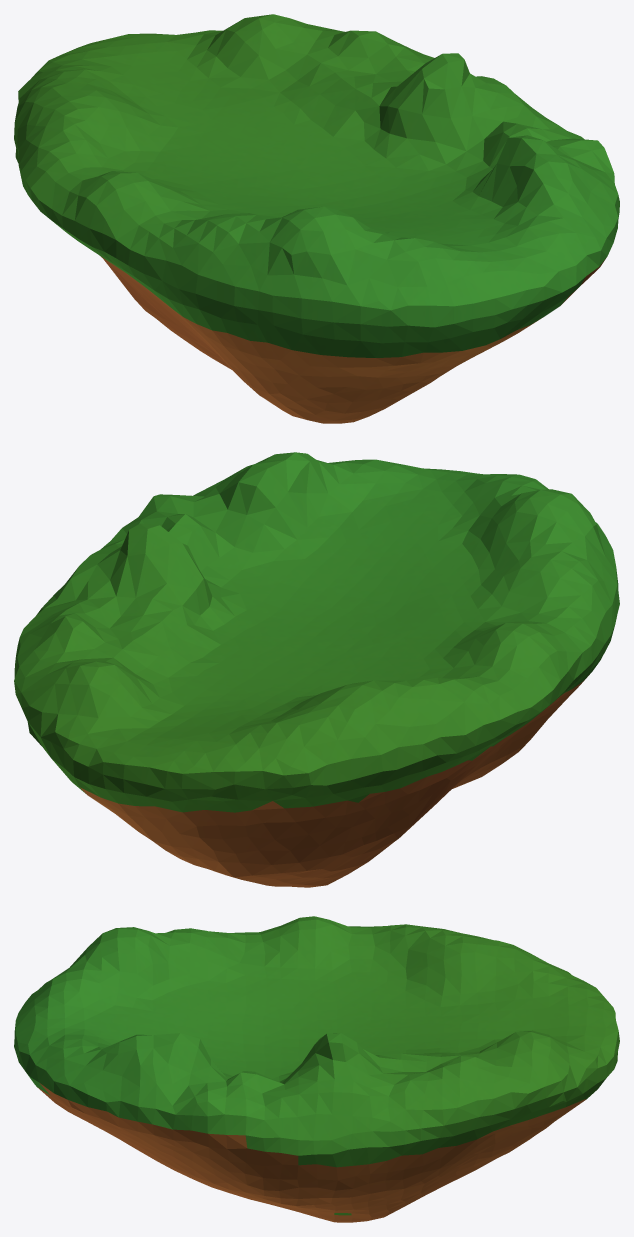
3 views of the same model, one above another, from view 1: azimuth 30°, elevation 25°; view 2: azimuth 150°, elevation 25°; view 3: azimuth 270°, elevation 25° (orthographic). The views are drawn at different scales.
Parts seen in each view (by area): view 1: Surface; view 2: Surface; view 3: Surface.
Boxes of the visible parts, x1,y1,x2,y2 form: Surface: (14, 14, 619, 423); Surface: (14, 452, 619, 887); Surface: (14, 916, 619, 1222).
Bounding box in the file's own units: 4784 × 2756 × 6309.
